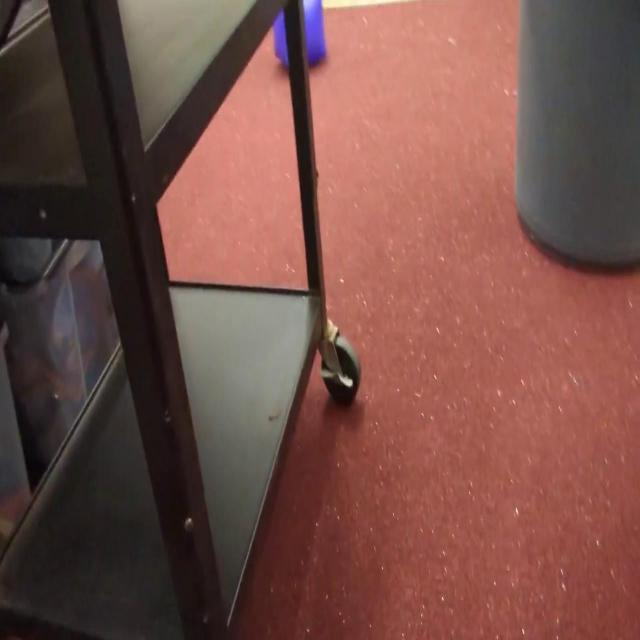frc_cube: (273, 0, 328, 68)
